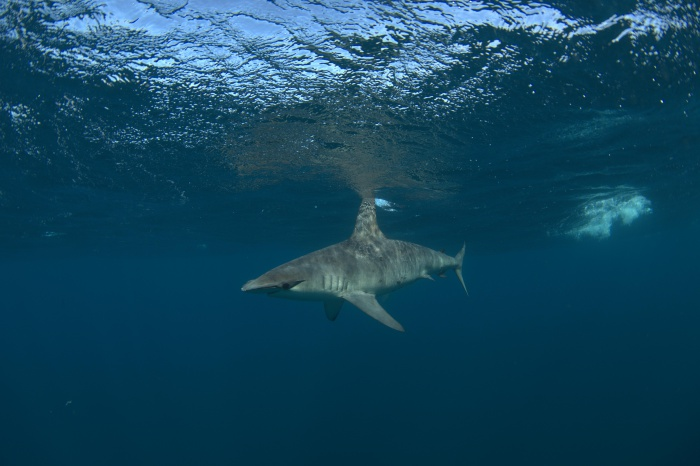Hammer: (217, 184, 483, 332)
